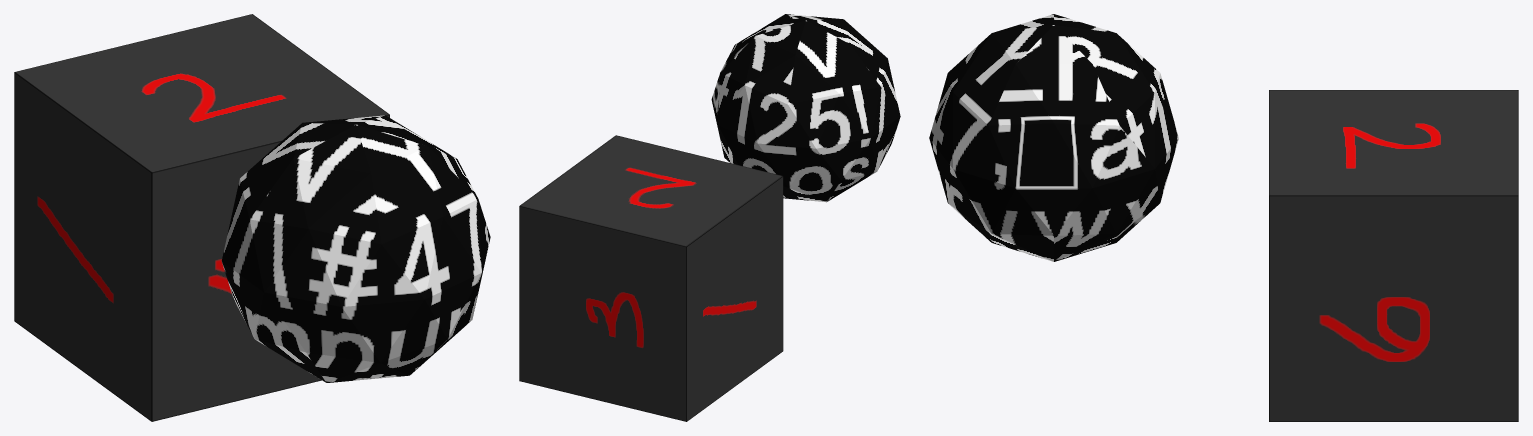
File: cube_and_sphere.obj
3 renders of one model, left to right at view 1: azimuth 30°, elevation 25°; view 2: azimuth 150°, elevation 25°; view 3: azimuth 270°, elevation 25°, orthographic. The views are drawn at different scales.
Parts seen in each view (by area): view 1: Cube, Icosphere; view 2: Cube, Icosphere; view 3: Cube, Icosphere.
Boxes of the visible parts, x1,y1,x2,y2 form: Cube: [14, 14, 389, 421]; Icosphere: [221, 115, 490, 382]; Cube: [519, 135, 783, 421]; Icosphere: [711, 14, 900, 202]; Cube: [1269, 90, 1518, 421]; Icosphere: [929, 14, 1178, 261].
Size of the model in its own units: 2.23 by 2.91 by 4.72.
Materials: 2 (2 with a texture image).
